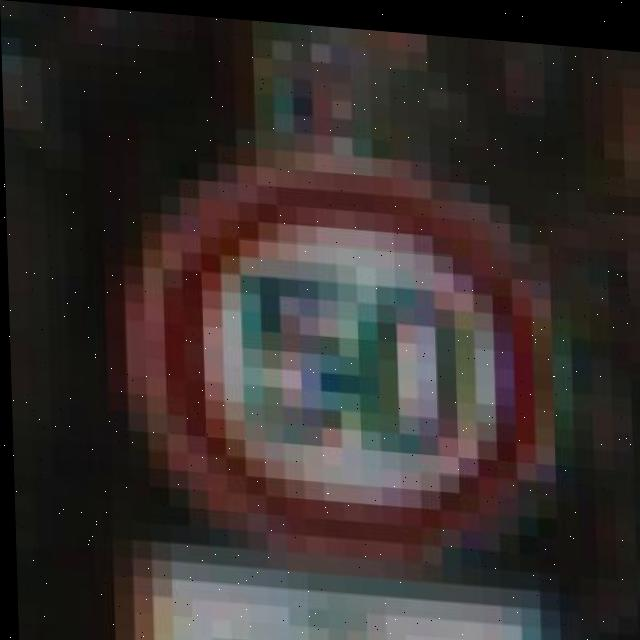Speed limit 50: (113, 134, 561, 575)
